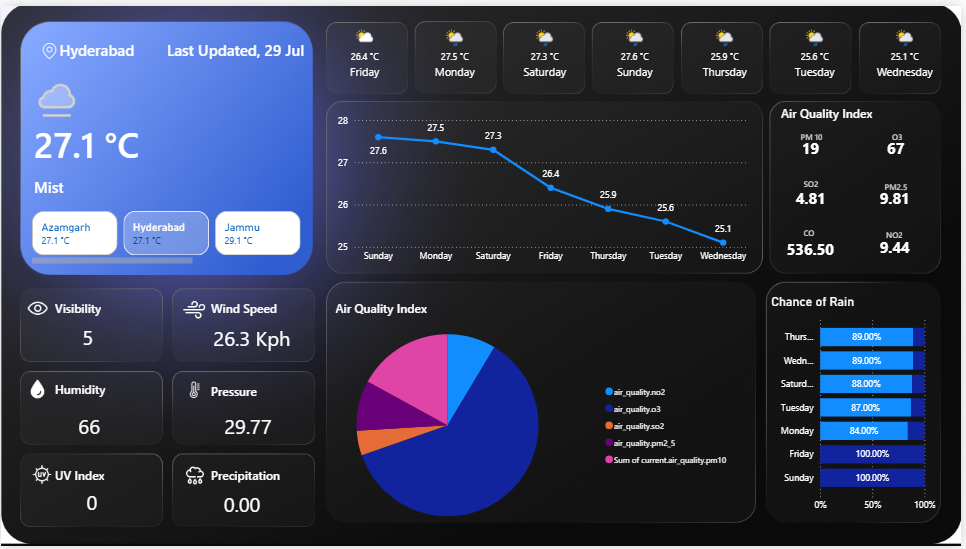

The page's visual inventory and layout, read from the dashboard file:
{"tool":"powerbi","page":{"name":"Page 1","canvas":[1280,720],"ordinal":0},"visuals":[{"type":"advancedSlicerVisual","fields":{"Values":["Current.location.name"]},"box":[35.7,267.9,369.6,82.1],"z":0},{"type":"shape","box":[44.3,145.7,152.9,74.3],"z":1000},{"type":"shape","box":[44.6,219.6,208.9,41.1],"z":2000},{"type":"shape","box":[78.1,38.7,207.7,41.5],"z":3000},{"type":"shape","box":[196.5,38.9,208.1,41.3],"z":4000},{"type":"image","box":[44.3,43.3,41.5,31.5],"z":5000},{"type":"cardVisual","fields":{"Data":["Min(Current.current.condition.icon)"]},"box":[17.1,67.1,104.3,95.7],"z":6000},{"type":"image","box":[28.6,382.9,41.4,41.4],"z":7000},{"type":"shape","box":[72.9,382.9,77.1,41.4],"z":8000},{"type":"image","box":[230,383,55.5,41.5],"z":9000},{"type":"shape","box":[279.5,382.5,92,41.5],"z":10000},{"type":"image","box":[30.7,492,36.7,37.3],"z":11000},{"type":"shape","box":[72,490,77.3,41.3],"z":12000},{"type":"image","box":[242,494,32,35.3],"z":13000},{"type":"shape","box":[279.3,492,77.3,41.3],"z":14000},{"type":"image","box":[36,604.7,36.7,41.3],"z":15000},{"type":"shape","box":[72.7,604.7,77.3,41.3],"z":16000},{"type":"image","box":[238,606.7,41.3,39.3],"z":17000},{"type":"shape","box":[279.3,604.7,100,41.3],"z":18000},{"type":"card","fields":{"Values":["Sum(Current.current.vis_km)"]},"box":[86.7,410,58.3,65],"z":19000},{"type":"card","fields":{"Values":["_Measures.Wind_speed"]},"box":[276.8,410.4,116.1,66.8],"z":20000},{"type":"card","fields":{"Values":["Sum(Current.current.humidity)"]},"box":[88.3,528.3,58.3,65],"z":21000},{"type":"card","fields":{"Values":["Sum(Current.current.pressure_in)"]},"box":[286.3,528.1,85.9,65.2],"z":22000},{"type":"card","fields":{"Values":["Sum(Current.current.uv)"]},"box":[92.3,630.8,57.7,65.4],"z":23000},{"type":"card","fields":{"Values":["Sum(Current.current.precip_in)"]},"box":[286.3,631.5,70,65.2],"z":24000},{"type":"advancedSlicerVisual","fields":{"Values":["Forecast_Day.Day_Name"]},"box":[424.4,21.8,843.6,93.6],"z":25000},{"type":"lineChart","fields":{"Y":["Sum(Forecast_Day.forecast.forecastday.day.avgtemp_c)"],"Category":["Forecast_Day.Day_Name"]},"box":[443.6,137.2,560.3,212.8],"z":26000},{"type":"hundredPercentStackedBarChart","title":"Chance of Rain","fields":{"Y":["Sum(Forecast_Day.forecast.forecastday.day.daily_chance_of_rain)","Current.Left_Value_Rain"],"Category":["Forecast_Day.Day_Name"]},"box":[1021.2,383.3,229,299],"z":29000},{"type":"shape","box":[445.4,381.7,152.7,41.4],"z":30000},{"type":"card","fields":{"Values":["Sum(Current.current.air_quality.o3)"]},"box":[1154.3,157.9,77.1,67.1],"z":31000},{"type":"card","fields":{"Values":["Sum(Current.current.air_quality.pm10)"]},"box":[1035,157.9,85.7,67.1],"z":32000},{"type":"card","fields":{"Values":["Sum(Current.current.air_quality.so2)"]},"box":[1035,224.3,86.4,67.9],"z":33000},{"type":"card","fields":{"Values":["Sum(Current.current.air_quality.pm2_5)"]},"box":[1148.6,224.3,86.4,67.1],"z":34000},{"type":"shape","box":[1065,153.6,40,40],"z":35000},{"type":"shape","box":[1187.1,153.6,23.6,40],"z":36000},{"type":"shape","box":[1069.7,216.9,32.7,40],"z":37000},{"type":"shape","box":[1177.9,219.3,50.7,40],"z":38000},{"type":"card","fields":{"Values":["Sum(Current.current.air_quality.co)"]},"box":[1032.9,292.1,93.6,67.1],"z":39000},{"type":"card","fields":{"Values":["Sum(Current.current.air_quality.no2)"]},"box":[1148.6,290,86.4,67.1],"z":40000},{"type":"shape","box":[1070,282.9,32.9,40],"z":41000},{"type":"shape","box":[1180,283.6,50.7,40],"z":42000},{"type":"pieChart","fields":{"Y":["Sum(Current.current.air_quality.no2)","Sum(Current.current.air_quality.o3)","Sum(Current.current.air_quality.so2)","Sum(Current.current.air_quality.pm2_5)","Sum(Current.current.air_quality.pm10)"]},"box":[380.2,402.4,601.3,313.4],"z":44000},{"type":"shape","box":[1040,121.4,152.9,41.4],"z":44001}]}

Visuals, with their boxes in screenshot pixels (x1, y1, x2, y2), scaled from the page's 1280x720 canvas onto the 966x549 screenshot:
advancedSlicerVisual - Current.location.name: crop(27, 204, 306, 267)
shape: crop(33, 111, 149, 168)
shape: crop(34, 167, 191, 199)
shape: crop(59, 30, 216, 61)
shape: crop(148, 30, 305, 61)
image: crop(33, 33, 65, 57)
cardVisual - Min(Current.current.condition.icon): crop(13, 51, 92, 124)
image: crop(22, 292, 53, 324)
shape: crop(55, 292, 113, 324)
image: crop(174, 292, 215, 324)
shape: crop(211, 292, 280, 323)
image: crop(23, 375, 51, 404)
shape: crop(54, 374, 113, 405)
image: crop(183, 377, 207, 404)
shape: crop(211, 375, 269, 407)
image: crop(27, 461, 55, 493)
shape: crop(55, 461, 113, 493)
image: crop(180, 463, 211, 493)
shape: crop(211, 461, 286, 493)
card - Sum(Current.current.vis_km): crop(65, 313, 109, 362)
card - _Measures.Wind_speed: crop(209, 313, 297, 364)
card - Sum(Current.current.humidity): crop(67, 403, 111, 452)
card - Sum(Current.current.pressure_in): crop(216, 403, 281, 452)
card - Sum(Current.current.uv): crop(70, 481, 113, 531)
card - Sum(Current.current.precip_in): crop(216, 482, 269, 531)
advancedSlicerVisual - Forecast_Day.Day_Name: crop(320, 17, 957, 88)
lineChart - Sum(Forecast_Day.forecast.forecastday.day.avgtemp_c) x Forecast_Day.Day_Name: crop(335, 105, 758, 267)
"Chance of Rain" hundredPercentStackedBarChart: crop(771, 292, 944, 520)
shape: crop(336, 291, 451, 323)
card - Sum(Current.current.air_quality.o3): crop(871, 120, 929, 172)
card - Sum(Current.current.air_quality.pm10): crop(781, 120, 846, 172)
card - Sum(Current.current.air_quality.so2): crop(781, 171, 846, 223)
card - Sum(Current.current.air_quality.pm2_5): crop(867, 171, 932, 222)
shape: crop(804, 117, 834, 148)
shape: crop(896, 117, 914, 148)
shape: crop(807, 165, 832, 196)
shape: crop(889, 167, 927, 198)
card - Sum(Current.current.air_quality.co): crop(780, 223, 850, 274)
card - Sum(Current.current.air_quality.no2): crop(867, 221, 932, 272)
shape: crop(808, 216, 832, 246)
shape: crop(891, 216, 929, 247)
pieChart - Sum(Current.current.air_quality.no2) x Sum(Current.current.air_quality.o3): crop(287, 307, 741, 546)
shape: crop(785, 93, 900, 124)
